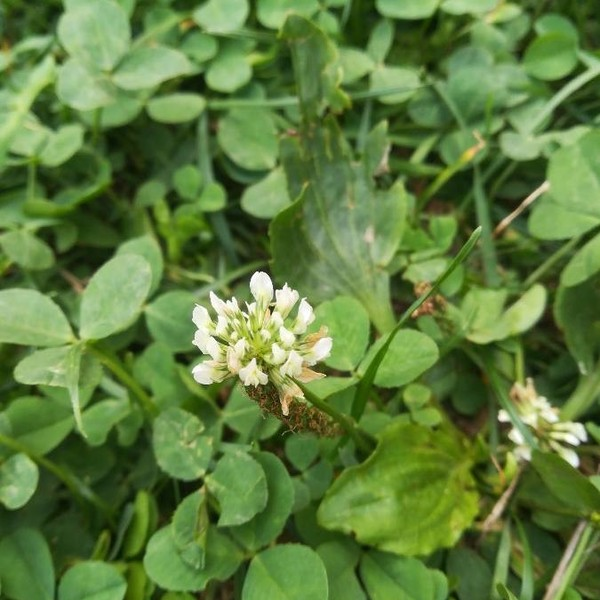obstacle: (46, 65, 524, 568)
